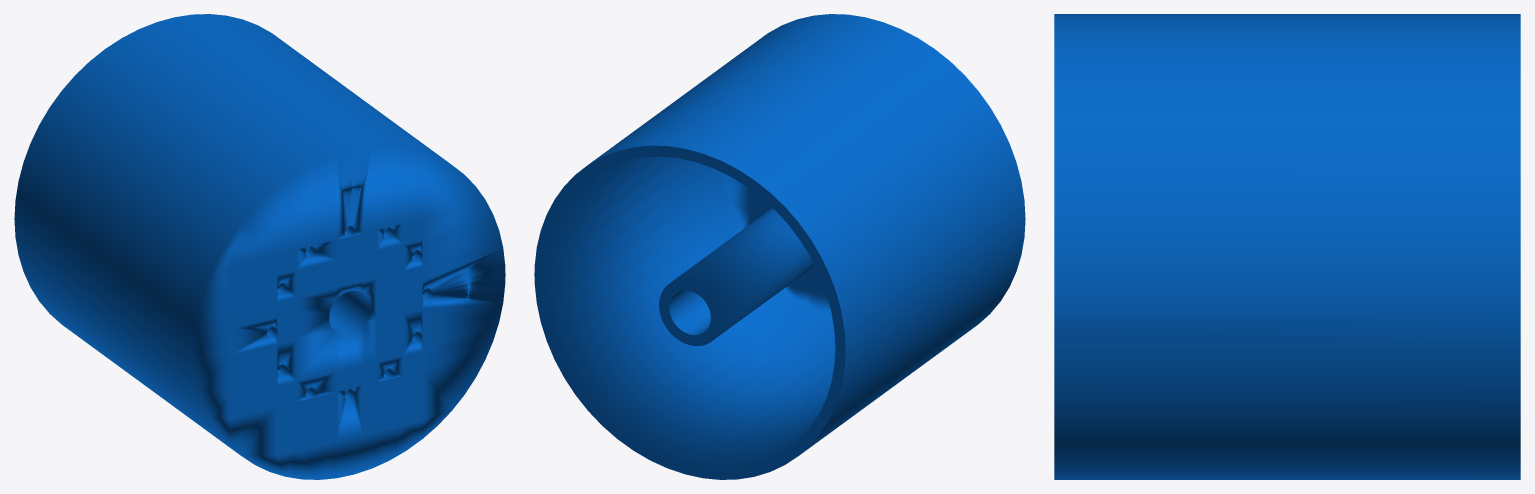
The model's file is DischargeChamber.obj.
3 views of the same model, side by side, from view 1: azimuth 30°, elevation 25°; view 2: azimuth 150°, elevation 25°; view 3: azimuth 270°, elevation 25° (orthographic). The views are drawn at different scales.
Parts seen in each view (by area): view 1: DischargeChamber; view 2: DischargeChamber; view 3: DischargeChamber.
Boxes of the visible parts, <box> form: DischargeChamber: <box>14,14,505,479</box>; DischargeChamber: <box>534,14,1025,479</box>; DischargeChamber: <box>1054,14,1520,479</box>.
Bounding box in the file's own units: 76.2 × 76.17 × 76.2.
